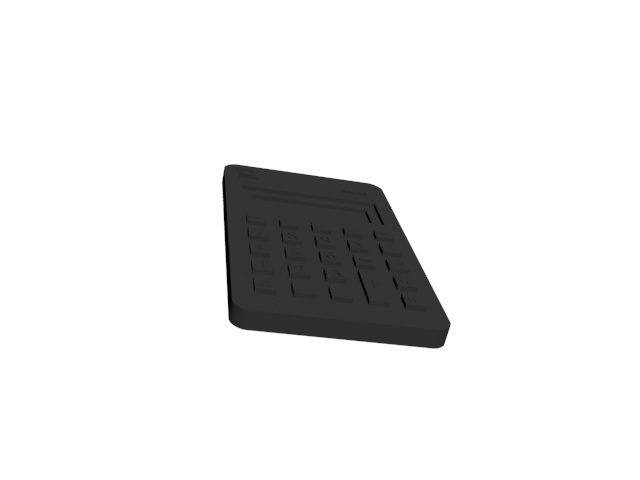calculator: (217, 161, 456, 352)
